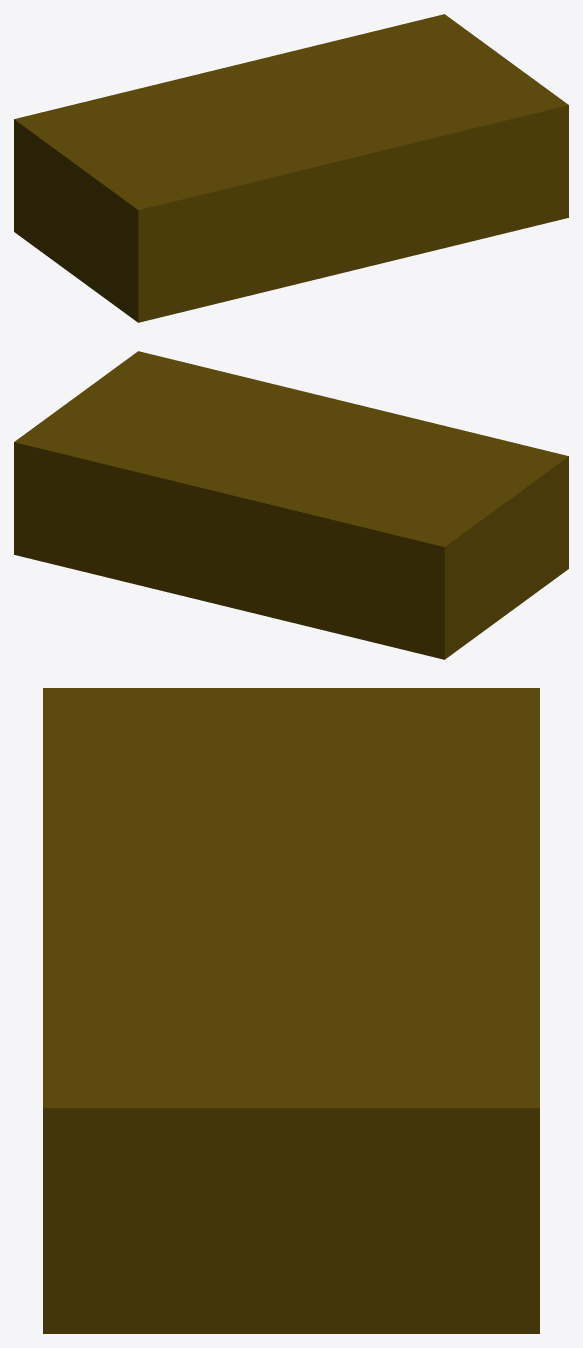
Rendered from Char18-Foot.gltf.
The picture shows the model from 3 angles, top to bottom: view 1: azimuth 30°, elevation 25°; view 2: azimuth 150°, elevation 25°; view 3: azimuth 270°, elevation 25°; orthographic projection. The views are drawn at different scales.
Size of the model in its own units: 4 by 1 by 2.
